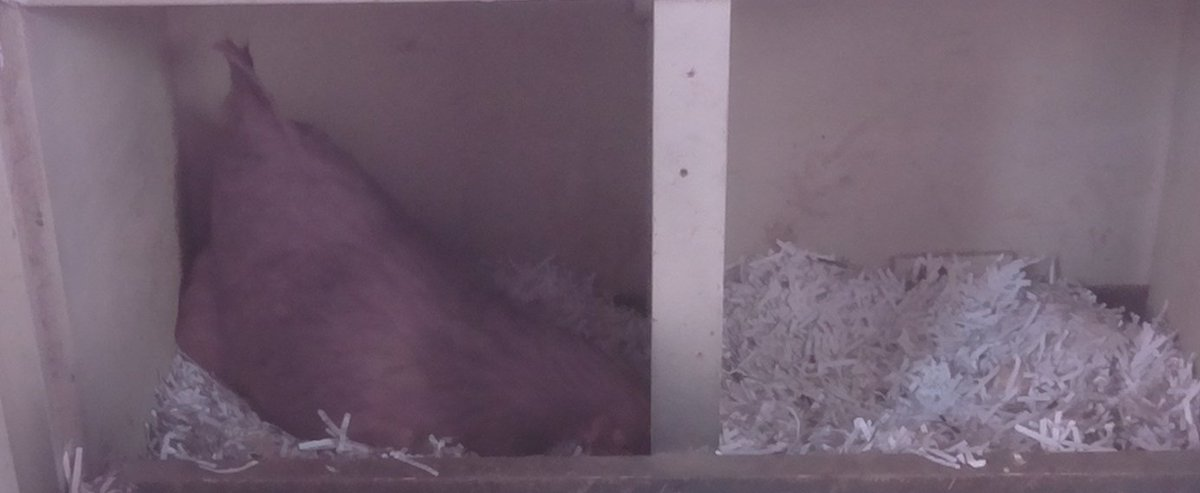hen: (171, 56, 650, 454)
